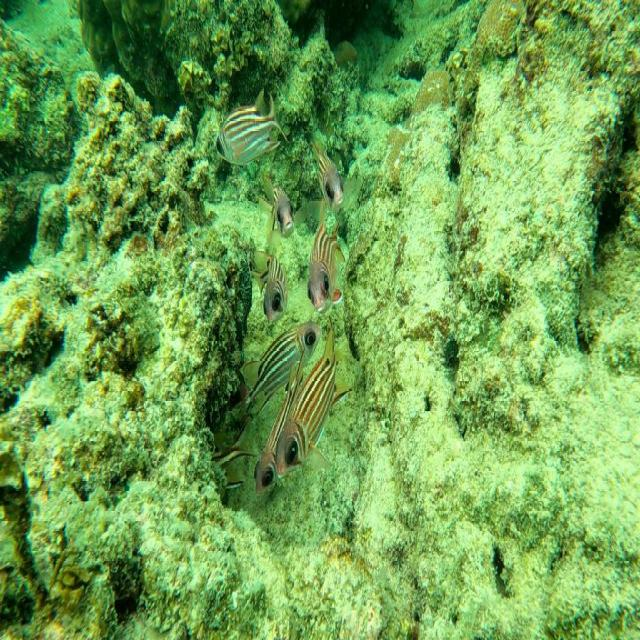Asker Baligi: (280, 338, 346, 494), (246, 313, 319, 431), (214, 86, 288, 168), (301, 226, 344, 310), (246, 253, 295, 326), (314, 146, 351, 213), (259, 198, 300, 248)
